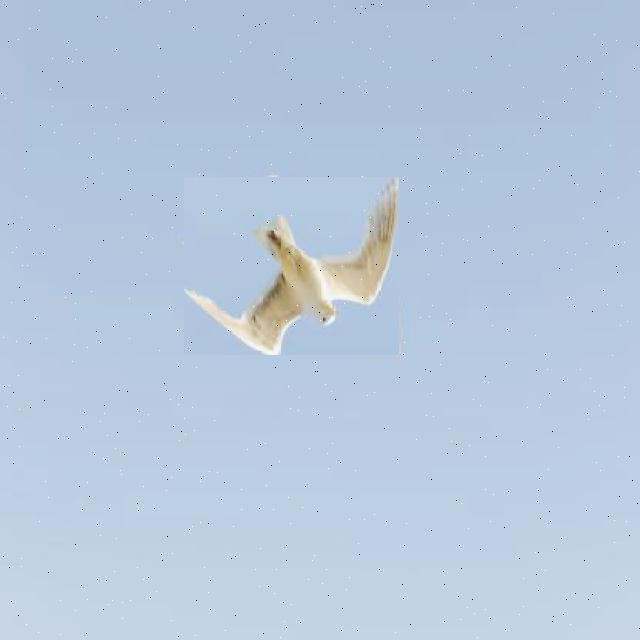bird: (184, 177, 399, 355)
